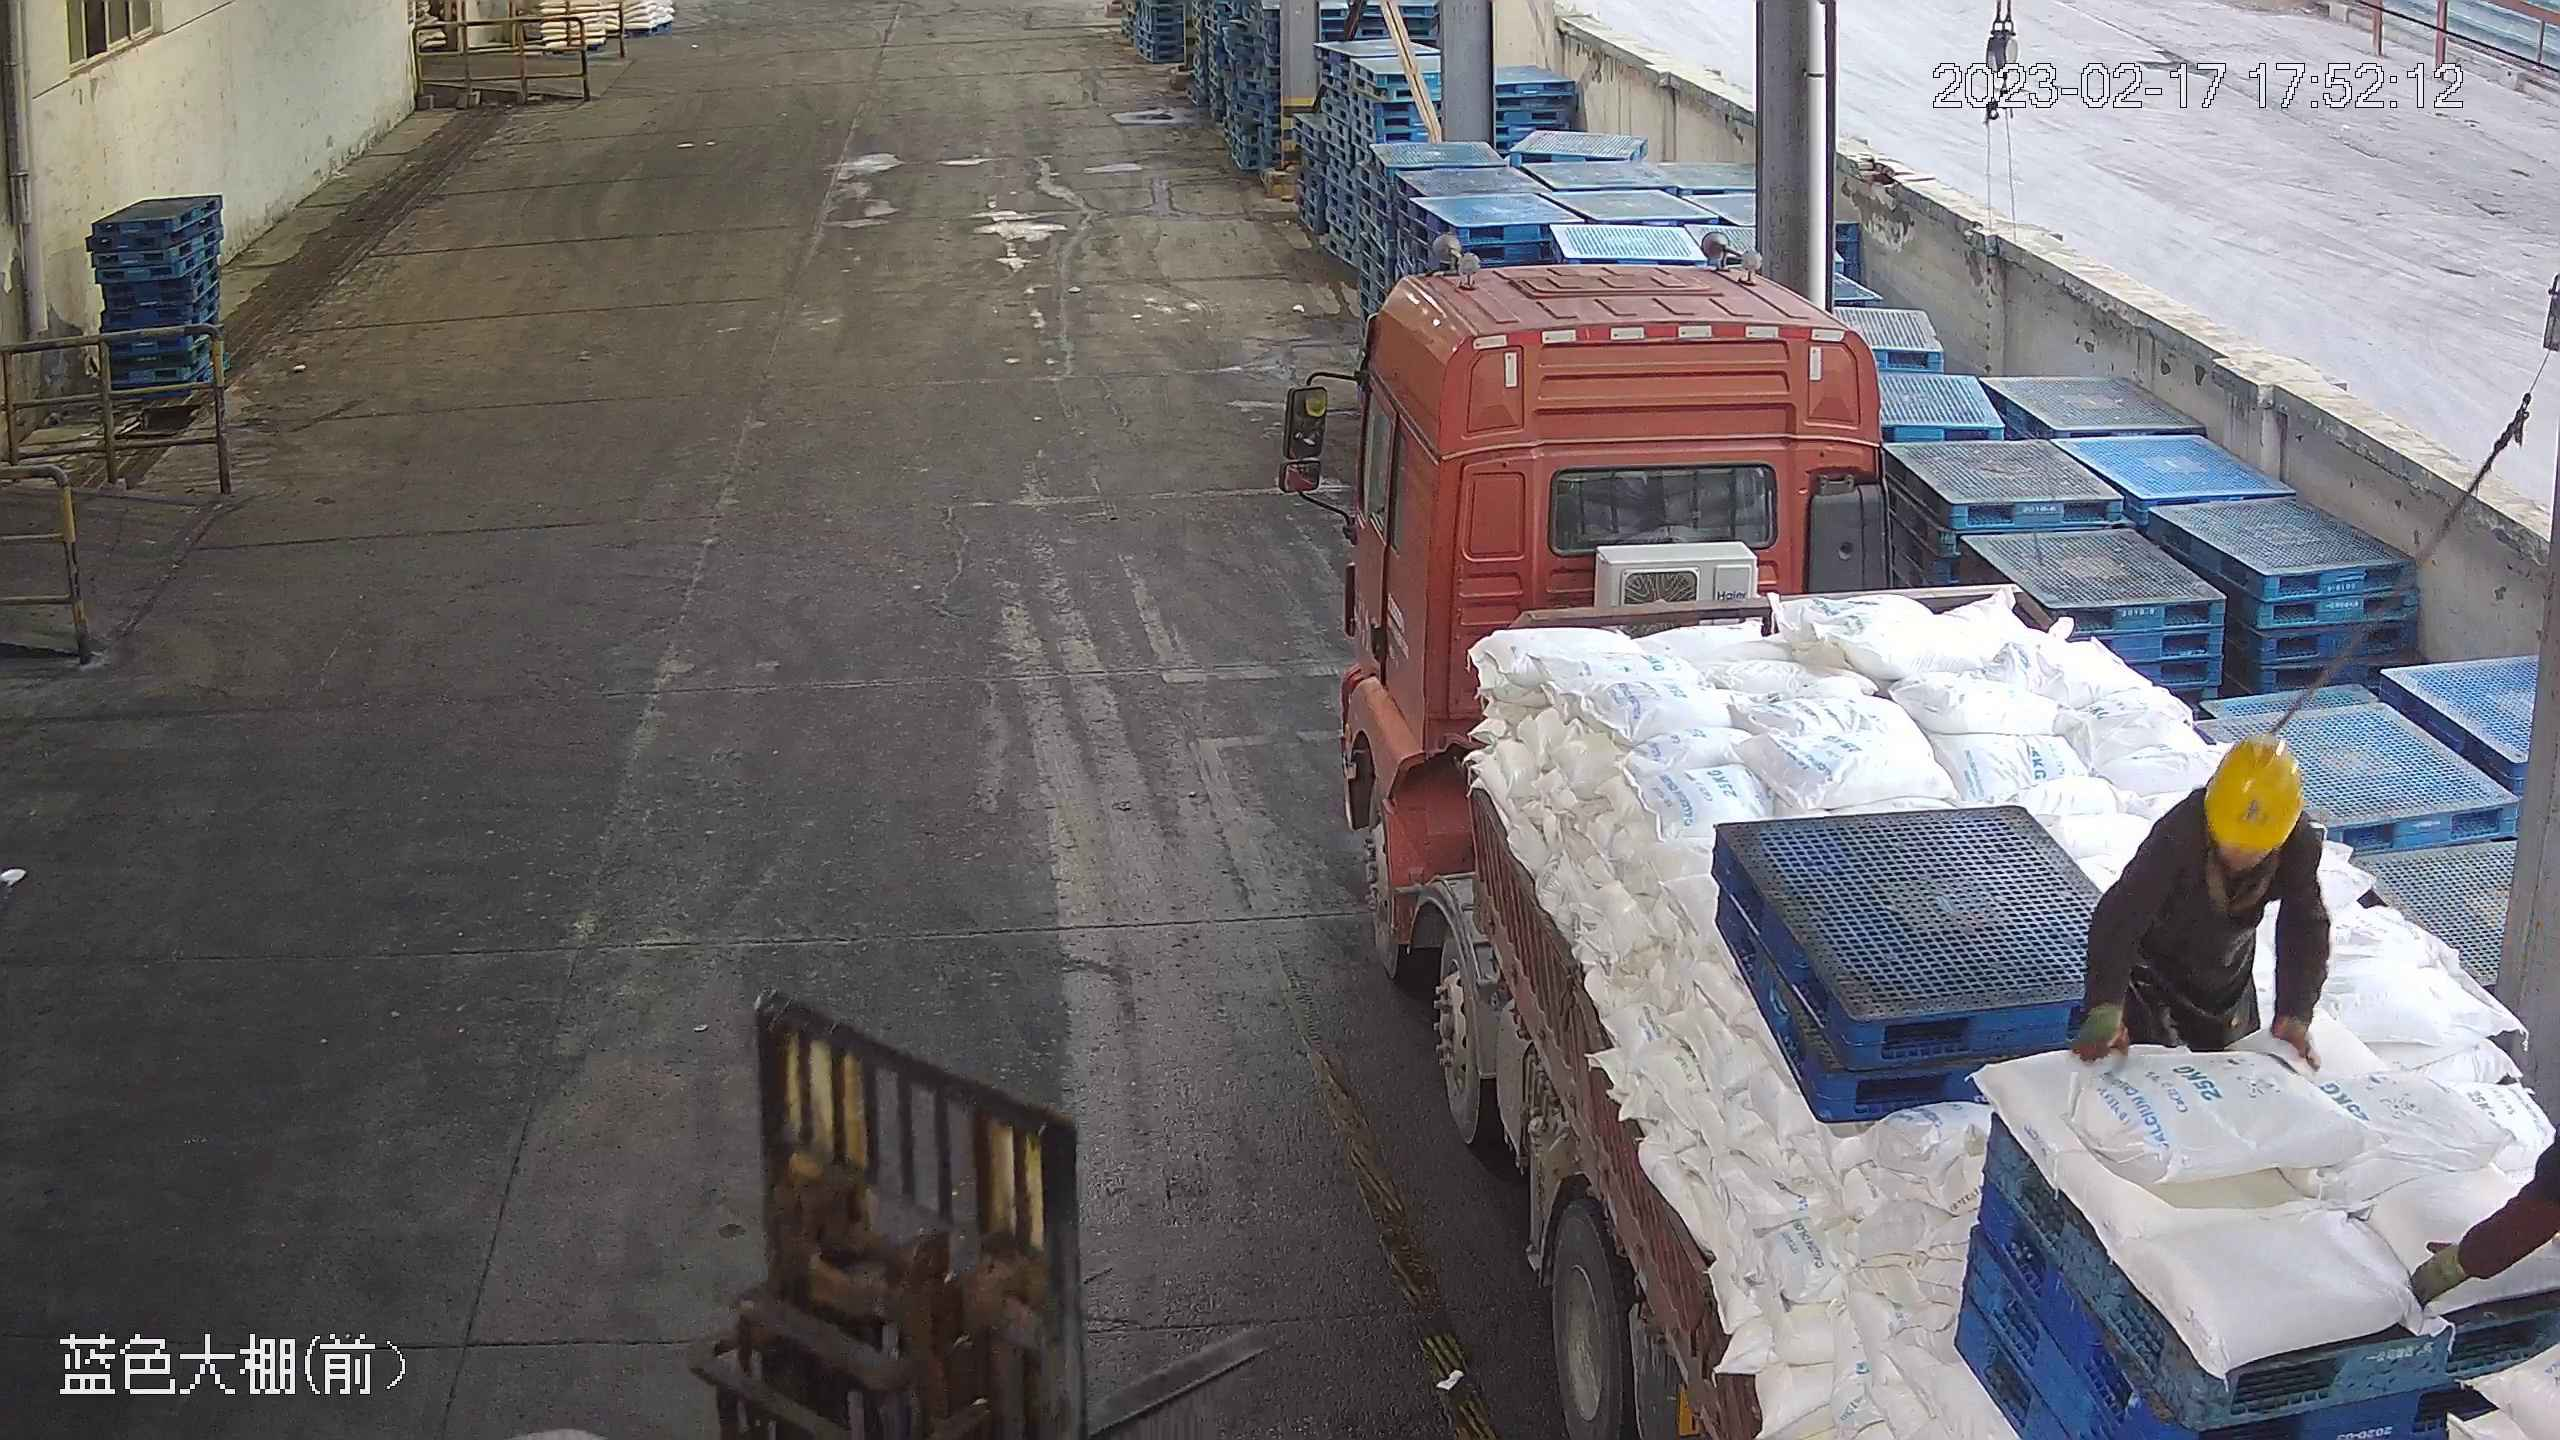belt: (2193, 791, 2283, 920)
head: (2146, 737, 2323, 886)
helmet: (2204, 736, 2303, 850)
people: (2068, 737, 2332, 1070)
truck: (1272, 230, 2557, 1440)
